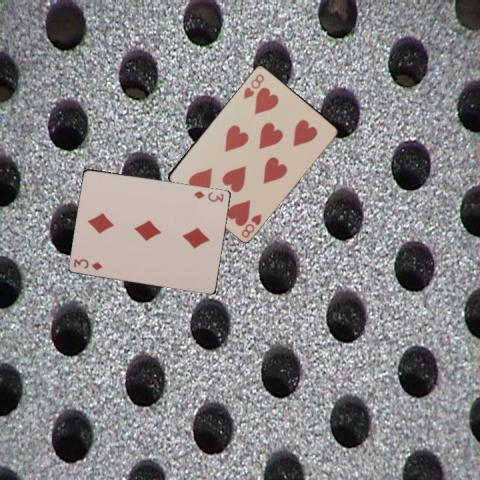3d: (192, 188, 226, 203), (71, 256, 104, 271)
8h: (240, 71, 265, 100), (238, 211, 263, 239)
